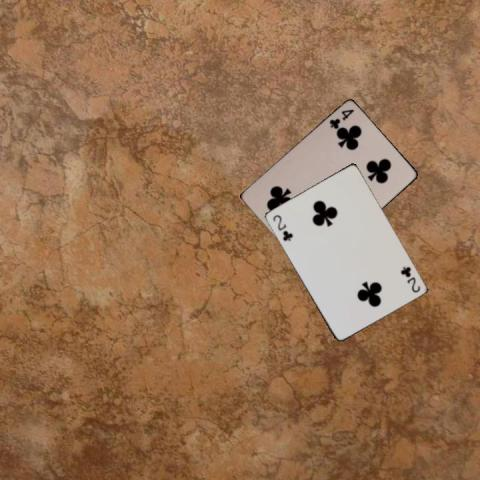2c: (269, 211, 294, 243), (398, 263, 422, 294)
4c: (326, 107, 355, 131)
